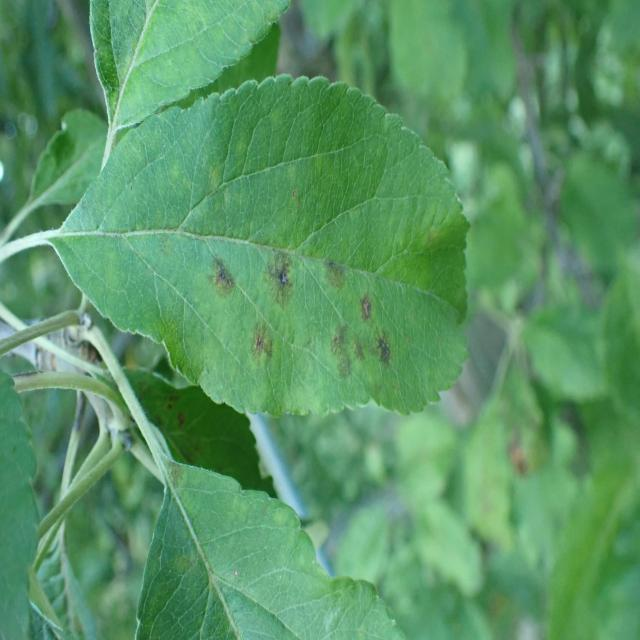scab: (160, 172, 450, 397)
